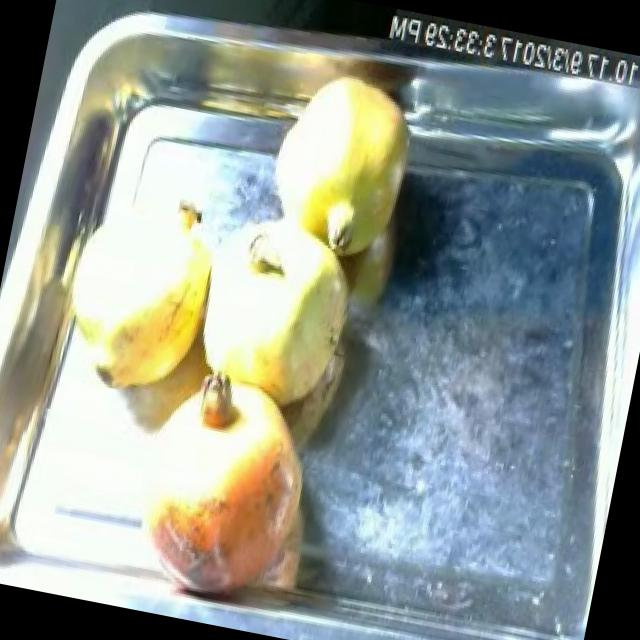fruit: (111, 352, 342, 620), (42, 180, 240, 423), (184, 200, 378, 434), (247, 53, 434, 284)
